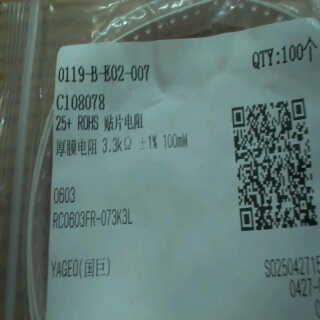3.3kO: (99, 133, 135, 157)
